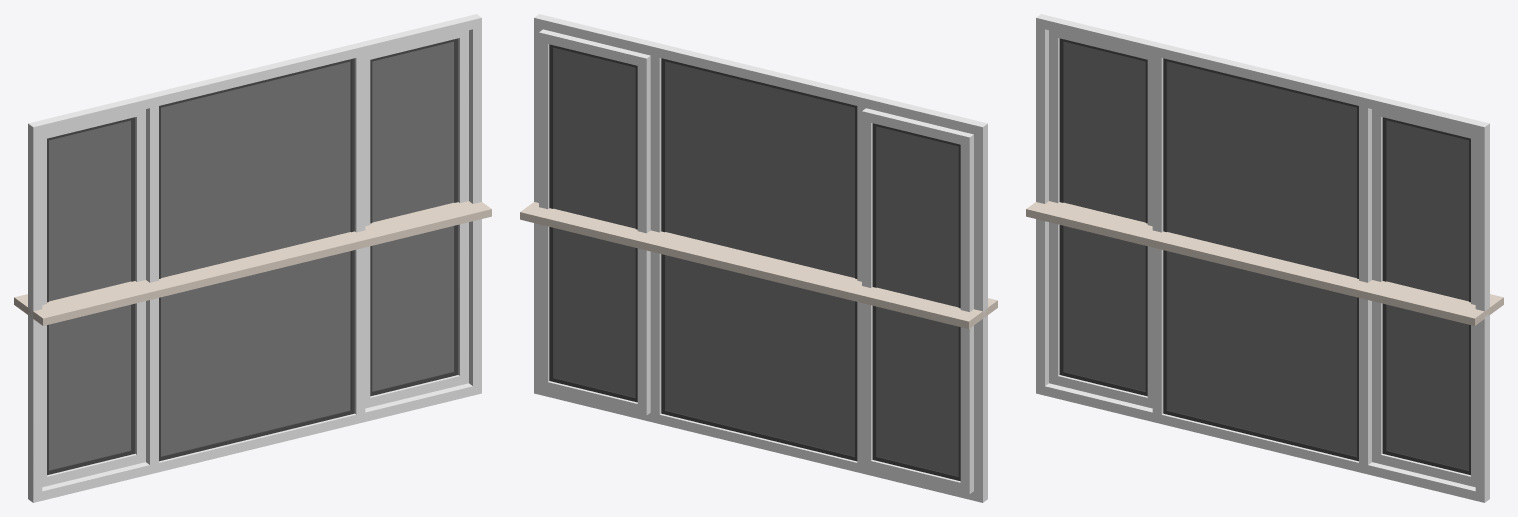
Rendered from window_1_processed.glb.
The picture shows the model from 3 angles, left to right: view 1: azimuth 30°, elevation 25°; view 2: azimuth 150°, elevation 25°; view 3: azimuth 330°, elevation 25°; orthographic projection.
Parts seen in each view (by area): view 1: Window; view 2: Window; view 3: Window.
Boxes of the visible parts, x1,y1,x2,y2 form: Window: [14, 14, 491, 502]; Window: [520, 14, 997, 502]; Window: [1026, 14, 1503, 502].
Size of what is drawn, in the model's own units: 81917 by 65537 by 9170.
